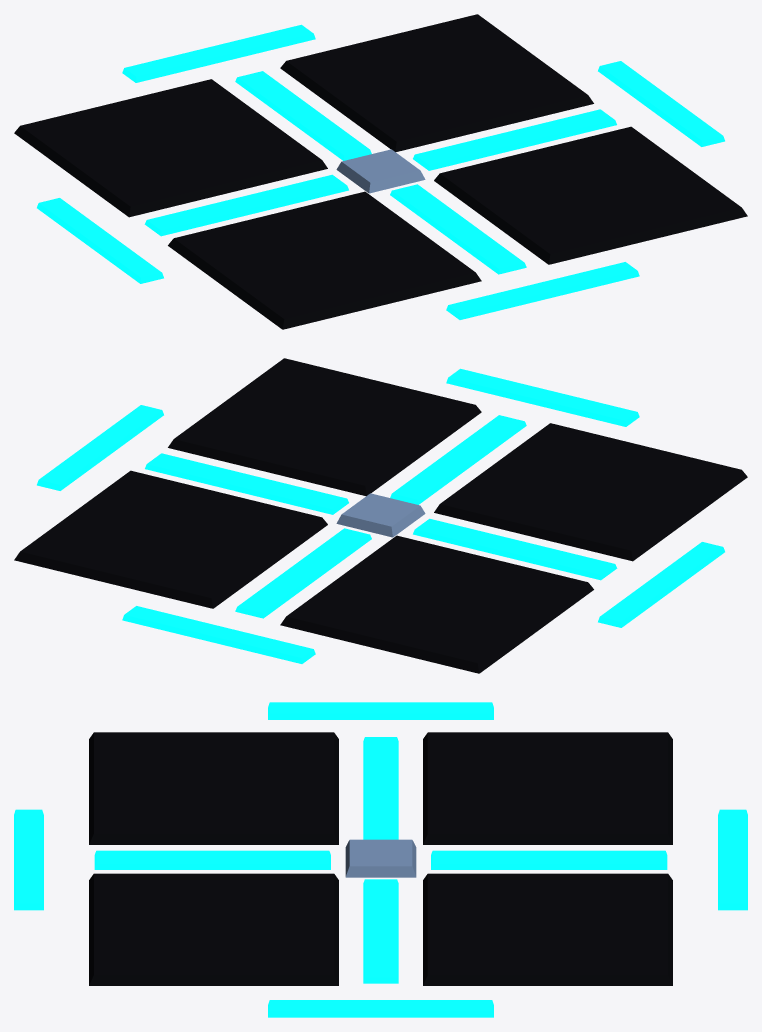
File: SM_ArenaTile_Overlay_01_SafeNormal.glb
3 renders of one model, top to bottom at view 1: azimuth 30°, elevation 25°; view 2: azimuth 150°, elevation 25°; view 3: azimuth 270°, elevation 25°, orthographic. The views are drawn at different scales.
Parts seen in each view (by area): view 1: Part_MAT_DarkNeutral, Part_EMI_Cyan, Part_MAT_LightTrim; view 2: Part_MAT_DarkNeutral, Part_EMI_Cyan, Part_MAT_LightTrim; view 3: Part_MAT_DarkNeutral, Part_EMI_Cyan, Part_MAT_LightTrim.
Boxes of the visible parts, x1,y1,x2,y2 form: Part_MAT_DarkNeutral: [14, 14, 747, 329]; Part_EMI_Cyan: [37, 24, 724, 319]; Part_MAT_LightTrim: [336, 149, 425, 193]; Part_MAT_DarkNeutral: [14, 358, 747, 673]; Part_EMI_Cyan: [37, 368, 724, 663]; Part_MAT_LightTrim: [336, 493, 425, 537]; Part_MAT_DarkNeutral: [89, 732, 672, 985]; Part_EMI_Cyan: [14, 702, 747, 1017]; Part_MAT_LightTrim: [345, 839, 416, 877].
Size of the model in its own units: 9.1 by 0.13 by 9.1.
Materials: 3 (3 with a texture image).
